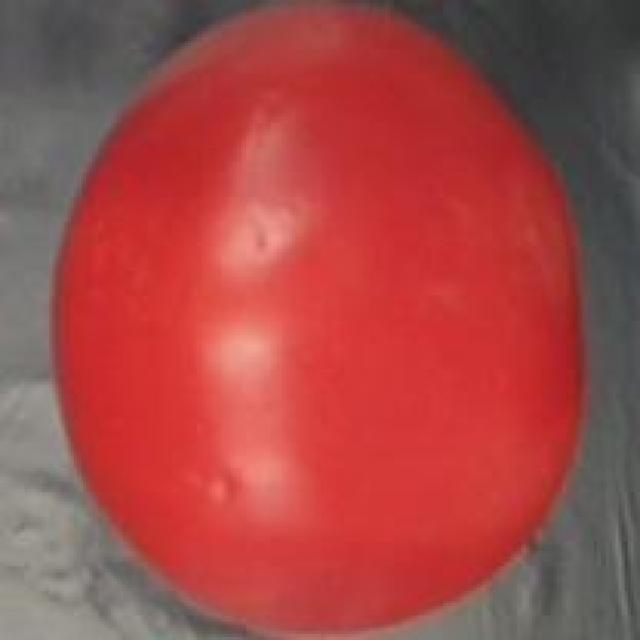ripe tomato: (46, 3, 597, 640)
